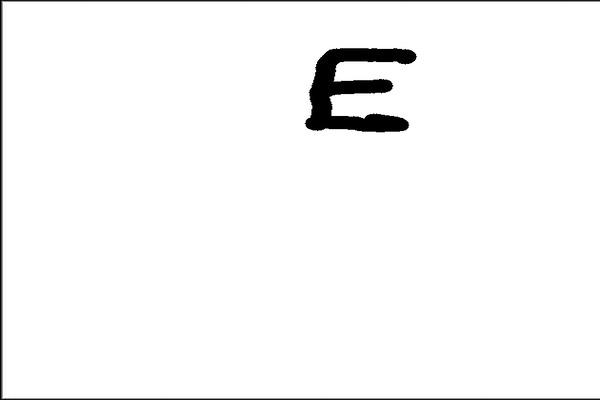E: (300, 42, 422, 138)
